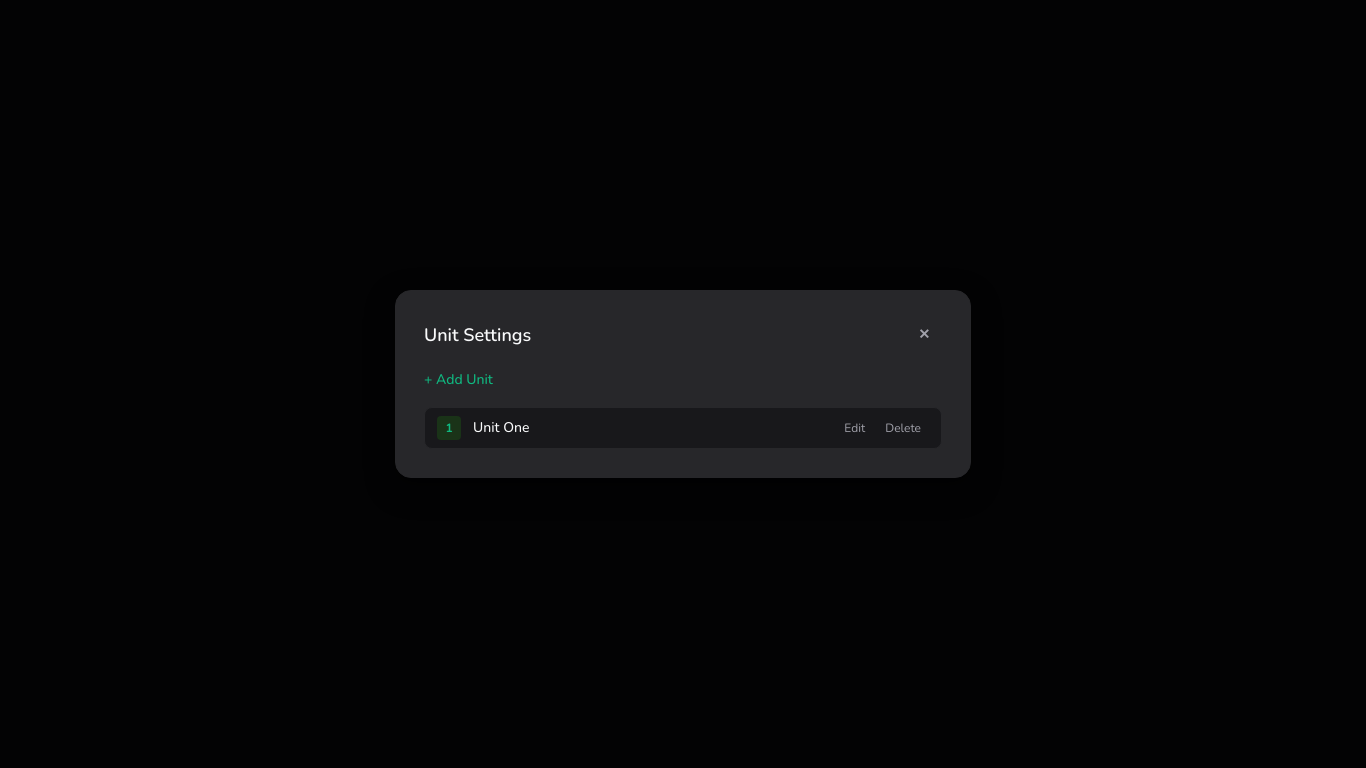
Test: UnitSettingsModal › shows edit form when edit button is clicked
What coordinates should you click on to do the following:
click the button "Edit"
I would click on:
 (855, 428)
Its box is left=836, top=416, right=873, bottom=440.
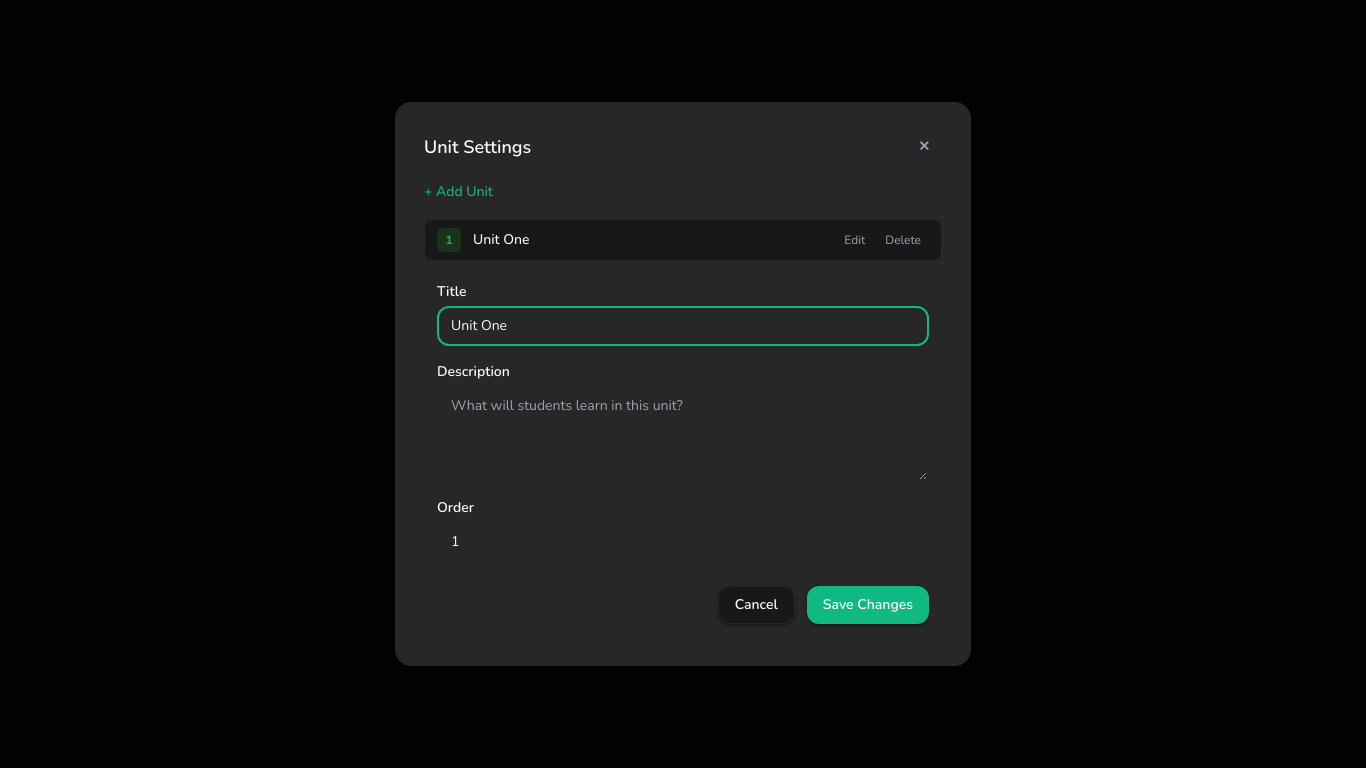
Now the button "Cancel" is shown, box left=718, top=586, right=795, bottom=624
